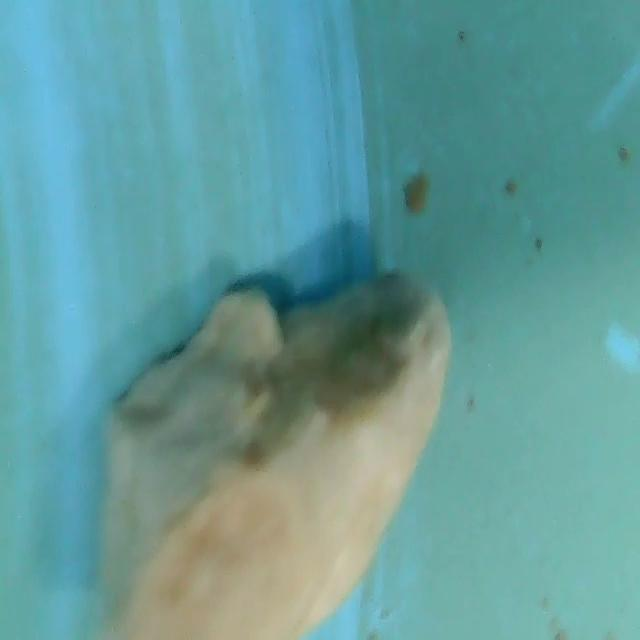rock: (96, 259, 458, 640)
